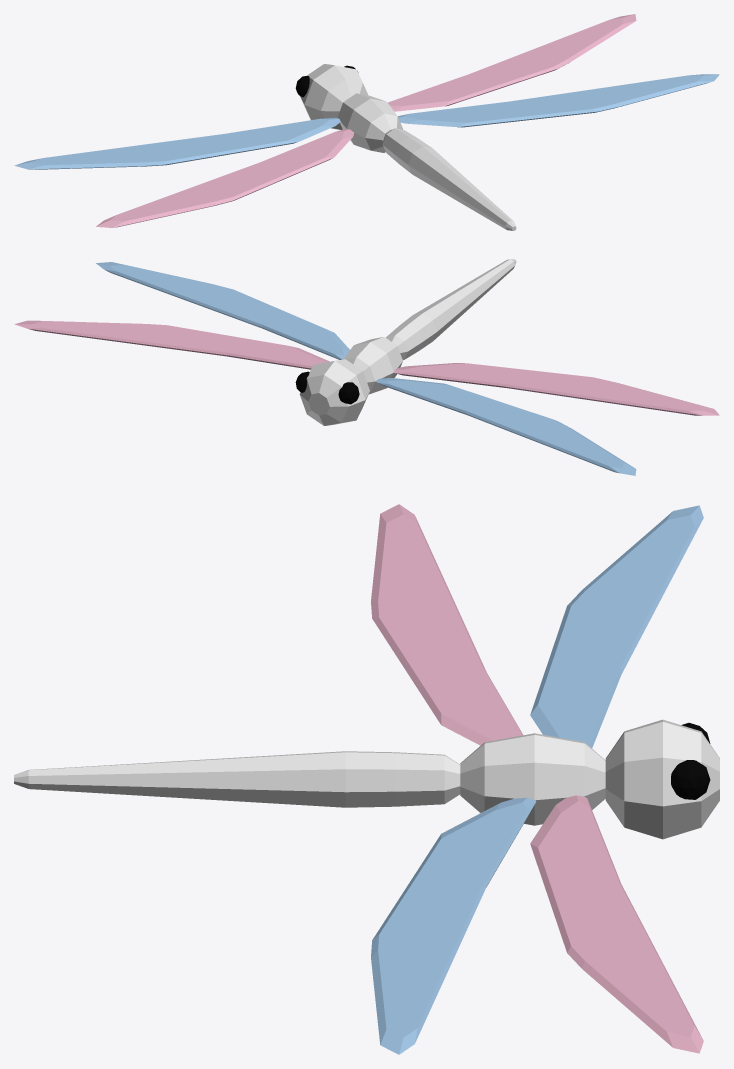
The model's file is dragonfly.glb.
The picture shows the model from 3 angles, top to bottom: view 1: azimuth 30°, elevation 25°; view 2: azimuth 150°, elevation 25°; view 3: azimuth 270°, elevation 25°; orthographic projection. The views are drawn at different scales.
Parts seen in each view (by area): view 1: FrontWing.L, BackWing.R, BackWing.L, FrontWing.R, Tail, Head, Thorax; view 2: BackWing.L, FrontWing.L, FrontWing.R, BackWing.R, Tail, Head, Thorax, Eye.L; view 3: Tail, BackWing.R, FrontWing.R, FrontWing.L, BackWing.L, Head, Thorax, Eye.R.
Boxes of the visible parts, bbox=[...] form: FrontWing.L: bbox=[14, 117, 340, 169]; BackWing.R: bbox=[398, 74, 719, 127]; BackWing.L: bbox=[96, 129, 353, 227]; FrontWing.R: bbox=[388, 14, 636, 111]; Tail: bbox=[382, 128, 516, 230]; Head: bbox=[300, 64, 368, 129]; Thorax: bbox=[337, 93, 402, 152]; BackWing.L: bbox=[394, 363, 719, 415]; FrontWing.L: bbox=[376, 378, 636, 475]; FrontWing.R: bbox=[14, 320, 329, 369]; BackWing.R: bbox=[96, 262, 349, 359]; Tail: bbox=[386, 259, 516, 360]; Head: bbox=[299, 359, 369, 425]; Thorax: bbox=[343, 337, 402, 394]; Eye.L: bbox=[338, 382, 359, 404]; Tail: bbox=[14, 751, 460, 807]; BackWing.R: bbox=[371, 797, 536, 1054]; FrontWing.R: bbox=[530, 795, 703, 1053]; FrontWing.L: bbox=[530, 505, 703, 748]; BackWing.L: bbox=[371, 504, 522, 745]; Head: bbox=[605, 719, 719, 839]; Thorax: bbox=[460, 733, 605, 825]; Eye.R: bbox=[671, 760, 710, 799].
Bounding box in the file's own units: 37.91 × 3.71 × 20.54.
